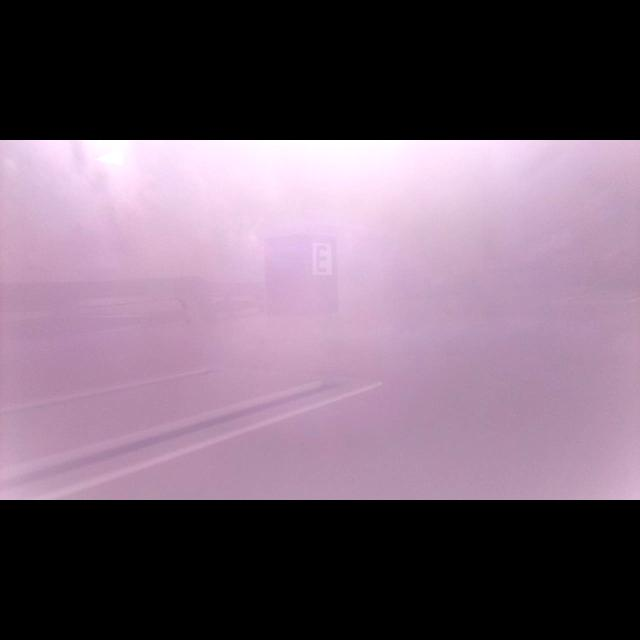E: (316, 246, 327, 272)
